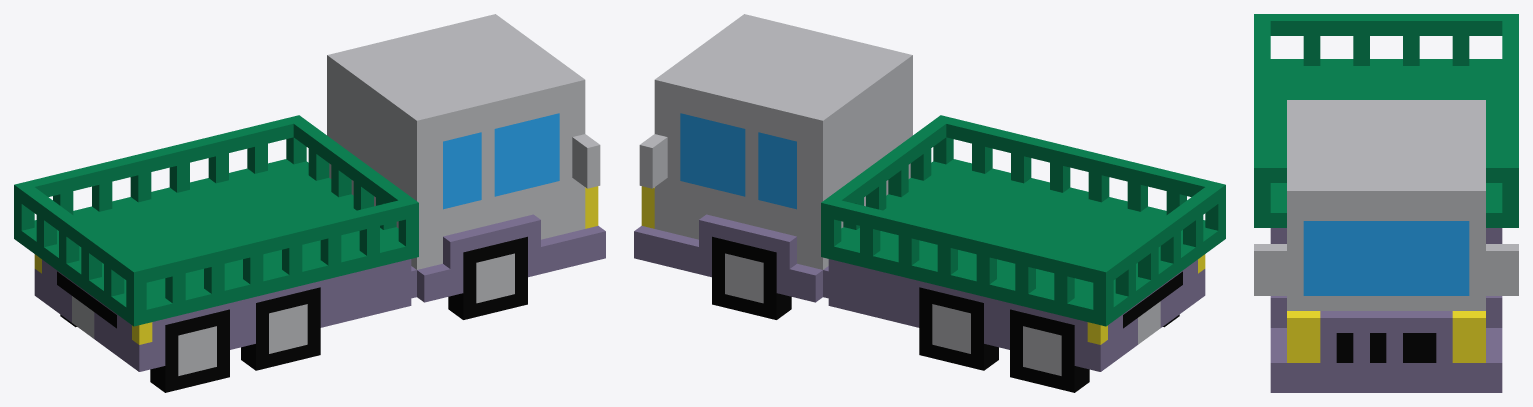
Rendered from truck_a_b.obj.
3 views of the same model, side by side, from view 1: azimuth 30°, elevation 25°; view 2: azimuth 150°, elevation 25°; view 3: azimuth 270°, elevation 25° (orthographic). The views are drawn at different scales.
Size of the model in its own units: 3.7 by 1.5 by 1.6.
Materials: 1 (1 with a texture image).
